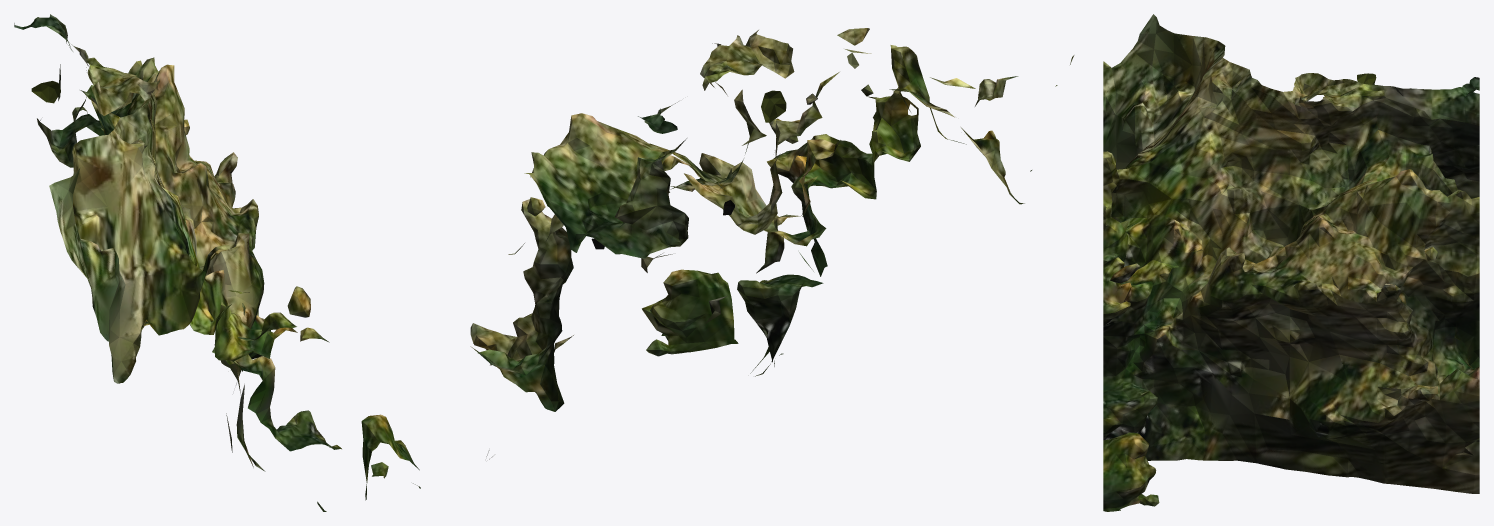
3 views of the same model, side by side, from view 1: azimuth 30°, elevation 25°; view 2: azimuth 150°, elevation 25°; view 3: azimuth 270°, elevation 25° (orthographic). The views are drawn at different scales.
Bounding box in the file's own units: 3.33 × 3.35 × 3.35.
Materials: 5 (5 with a texture image).
